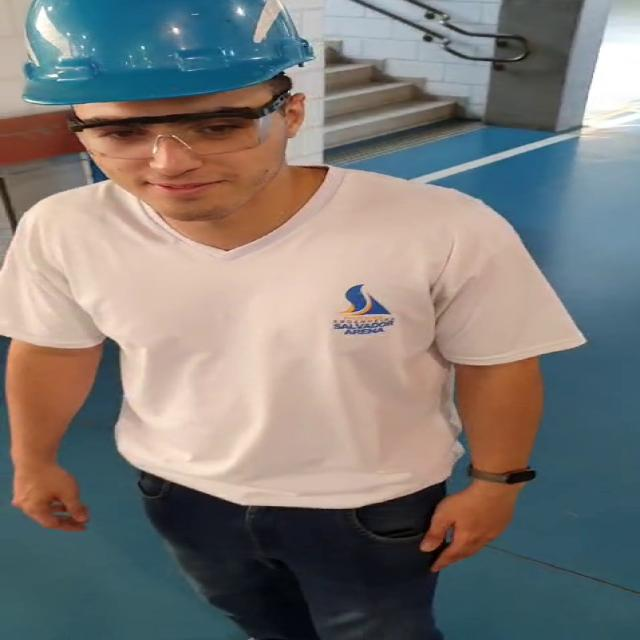oculos-epi: (70, 93, 287, 159)
